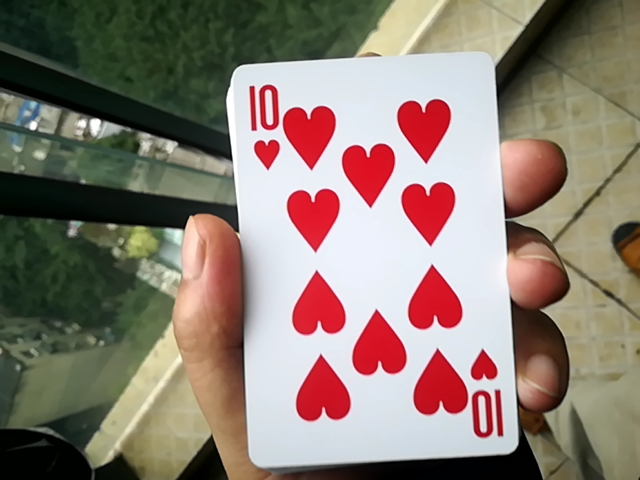hx 10: (220, 35, 515, 465)
